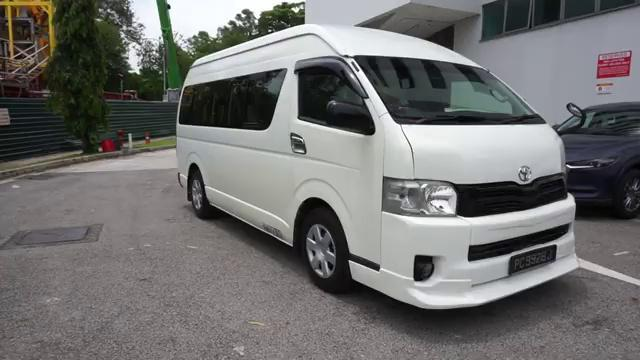Van: (174, 25, 582, 305)
